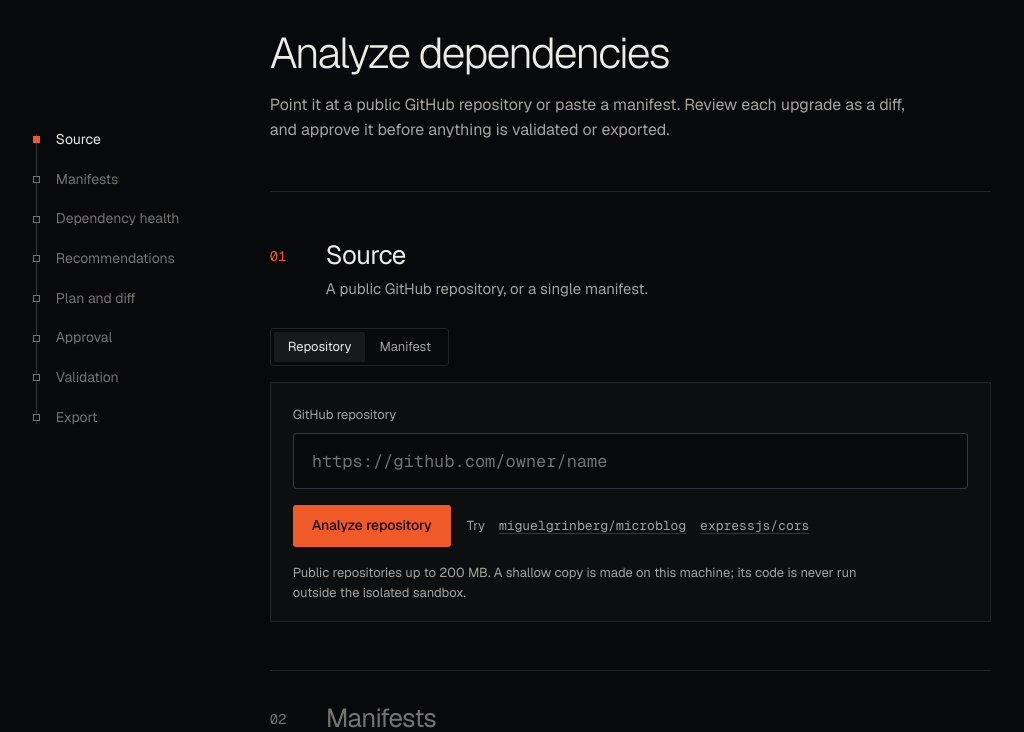
Test: ManifestAnalyzer Component › opens on repository input and offers the manual manifest editor
The image size is (1024, 732).
Expected: the heading "Analyze dependencies" is shown, [270,25,669,81]
Expected: the field with test id "repo-url-input" is shown, [293,433,968,489]
Click the tab with test id "source-manifest": (405, 347) [366,332,445,362]
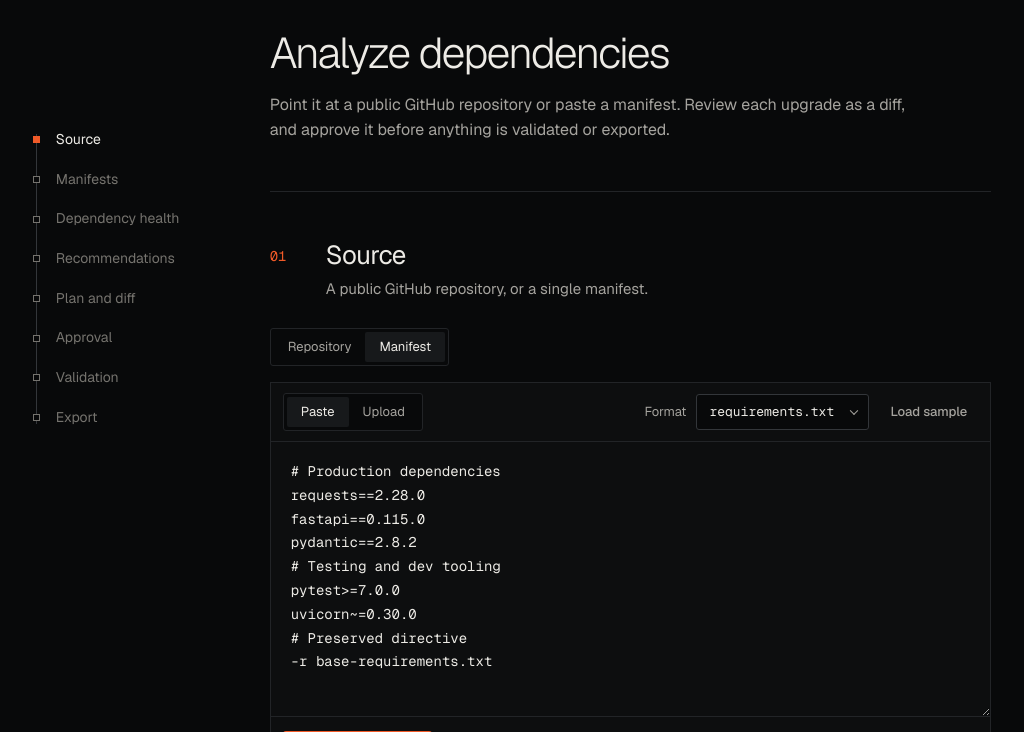
Now the dropdown with test id "manifest-type-select" shows "requirements.txt", box [696,394,869,430]
